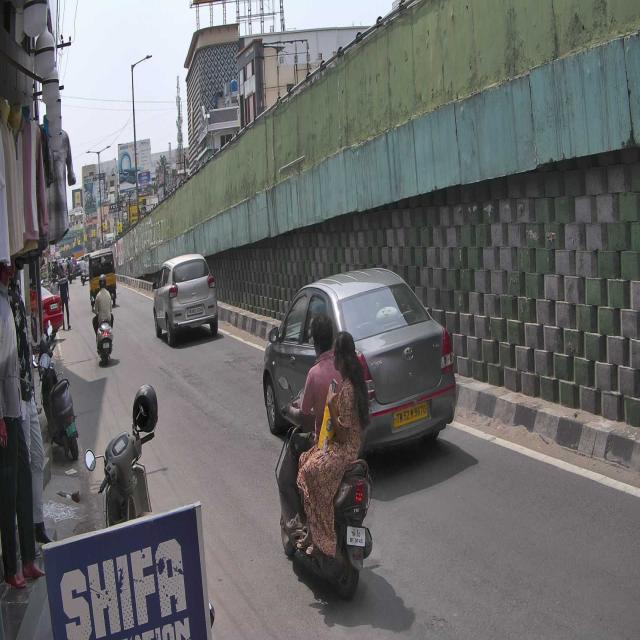double_rider: (276, 312, 372, 600)
